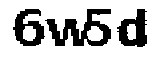5: (87, 6, 116, 54)
6: (8, 7, 45, 49)
d: (116, 6, 152, 51)
w: (45, 16, 87, 51)
